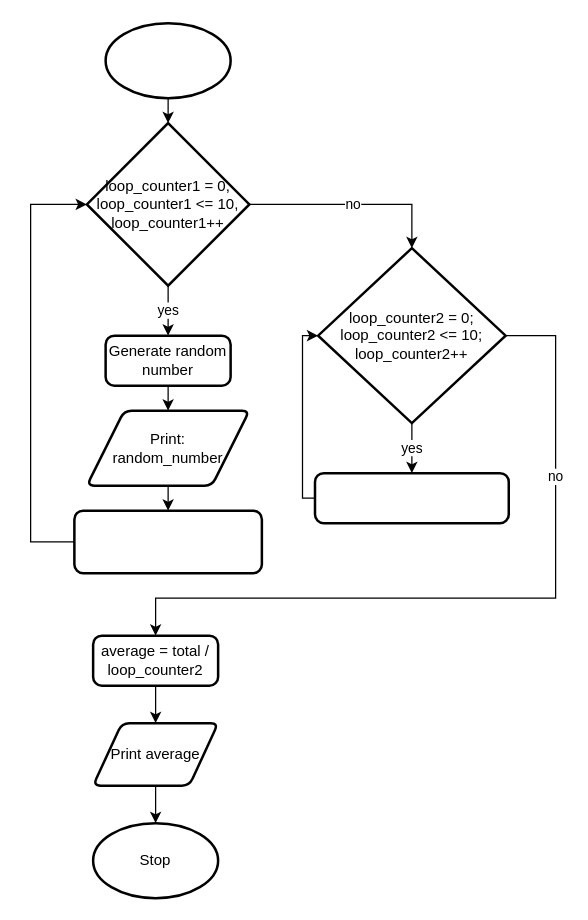
Image size: 588x920. Some labels were removed from this diagram. Each missing label, with the box of its shape:
Numbers[loop_counter1] = random_number: (72, 509, 262, 574)
Start: (104, 21, 231, 99)
total = total + Numbers[loop_counter2]: (313, 471, 509, 524)
